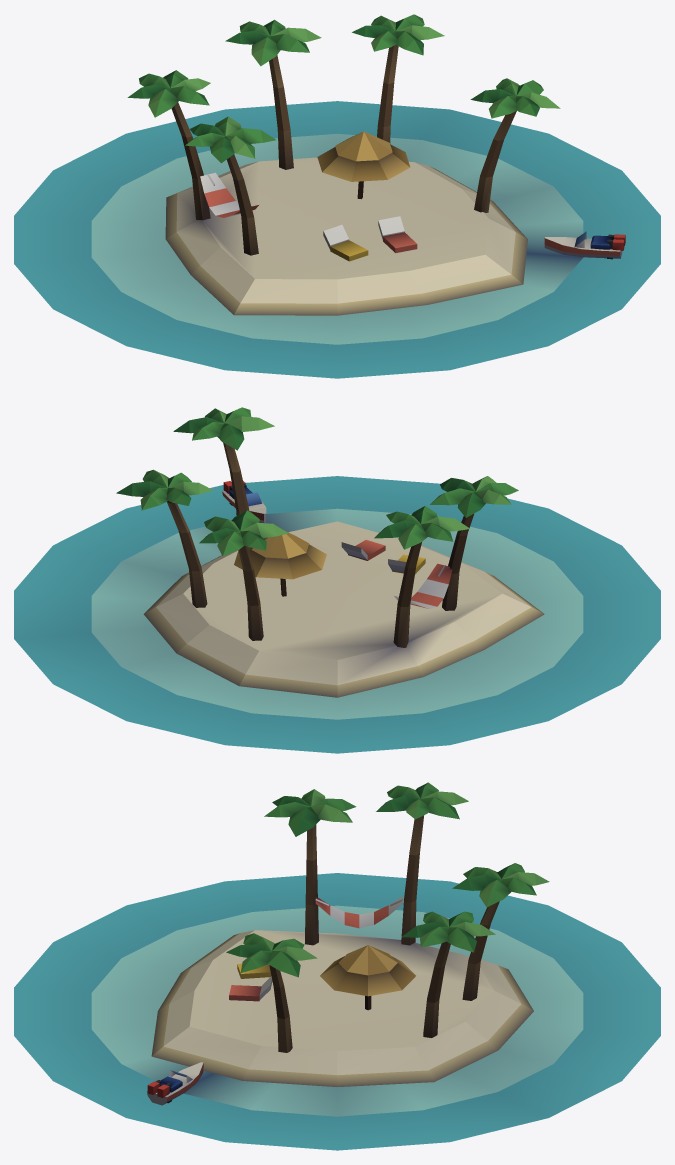
Rendered from cayo_morrocoy.glb.
The picture shows the model from 3 angles, top to bottom: view 1: azimuth 30°, elevation 25°; view 2: azimuth 150°, elevation 25°; view 3: azimuth 270°, elevation 25°; orthographic projection.
Parts seen in each view (by area): view 1: shallows, island, palms, palapa, sunbeds, boat, hammock; view 2: shallows, island, palms, palapa, hammock, sunbeds, boat; view 3: shallows, island, palms, palapa, boat, hammock, sunbeds.
Boxes of the visible parts, box(x1,y1,x2,y2) form: shallows: box(14, 101, 660, 378); island: box(165, 157, 527, 315); palms: box(127, 14, 560, 255); palapa: box(317, 131, 410, 199); sunbeds: box(323, 216, 417, 261); boat: box(544, 231, 625, 259); hammock: box(200, 172, 258, 217); shallows: box(14, 476, 660, 753); island: box(143, 521, 544, 697); palms: box(116, 407, 518, 647); palapa: box(234, 531, 326, 596); hammock: box(394, 563, 452, 608); sunbeds: box(341, 540, 425, 574); boat: box(222, 481, 266, 523); shallows: box(14, 873, 660, 1150); island: box(151, 930, 533, 1086); palms: box(226, 782, 549, 1052); palapa: box(320, 945, 415, 1010); boat: box(147, 1062, 203, 1105); hammock: box(315, 896, 403, 928); sunbeds: box(229, 963, 272, 1001).
Size of the model in its own units: 28.5 by 7.6 by 28.07.
